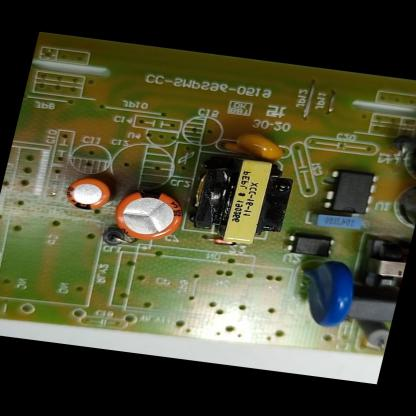Cap1: (103, 181, 195, 247)
Cap2: (56, 171, 120, 215)
Cap3: (381, 178, 416, 238)
Cap4: (398, 130, 416, 189)
MOSFET: (313, 164, 387, 224)
Mov: (286, 252, 365, 332)
Resistor: (346, 315, 392, 353)
Transformer: (175, 148, 305, 252), (342, 227, 413, 299)
